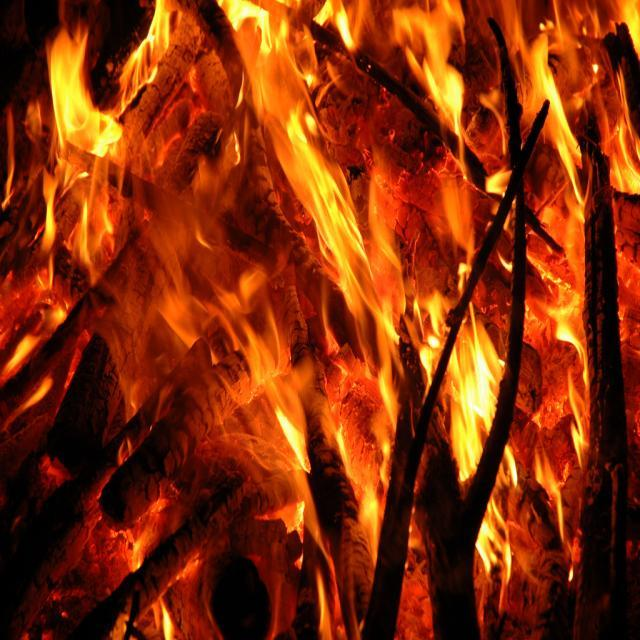Fire: (245, 31, 308, 119), (257, 340, 304, 454), (448, 340, 498, 440), (54, 49, 86, 140), (526, 45, 560, 130)
